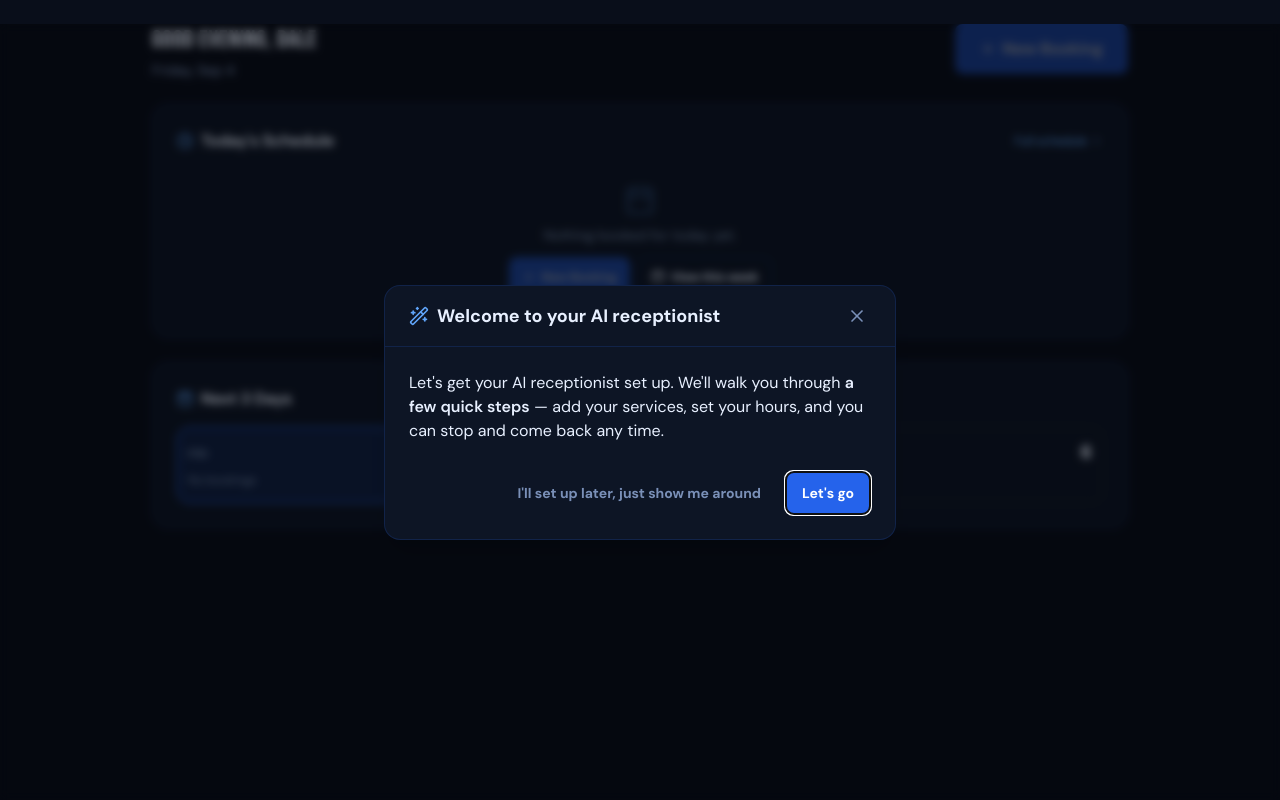
DashboardHome — wizard welcome → mode chooser staging (D1, 2026-05-17) › HAPPY: clicking "Let's go" advances welcome → mode chooser
The image size is (1280, 800).
Click the button "Let's go".
click(828, 492)  # box [785,470,871,514]
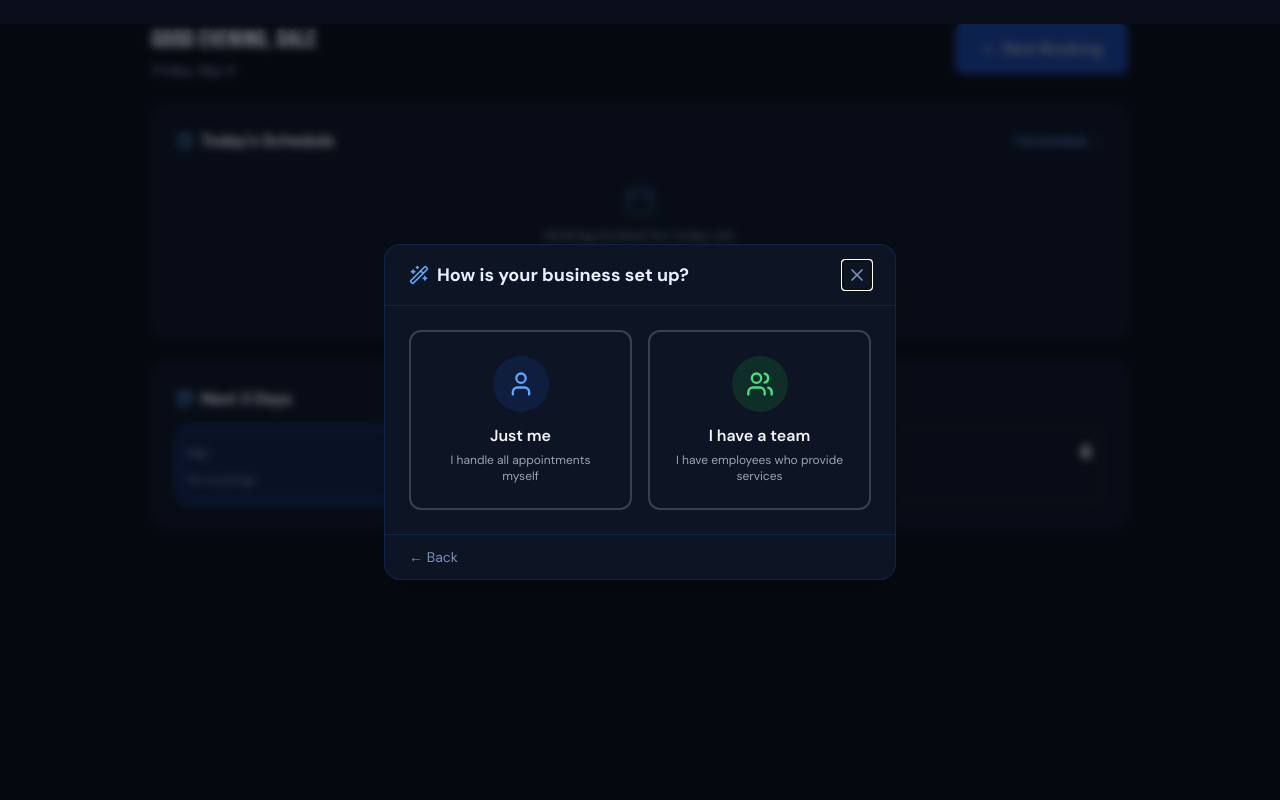
Expected: the heading "How is your business set up?" is shown, [437,261,689,289]
Expected: the heading "Welcome" is gone
